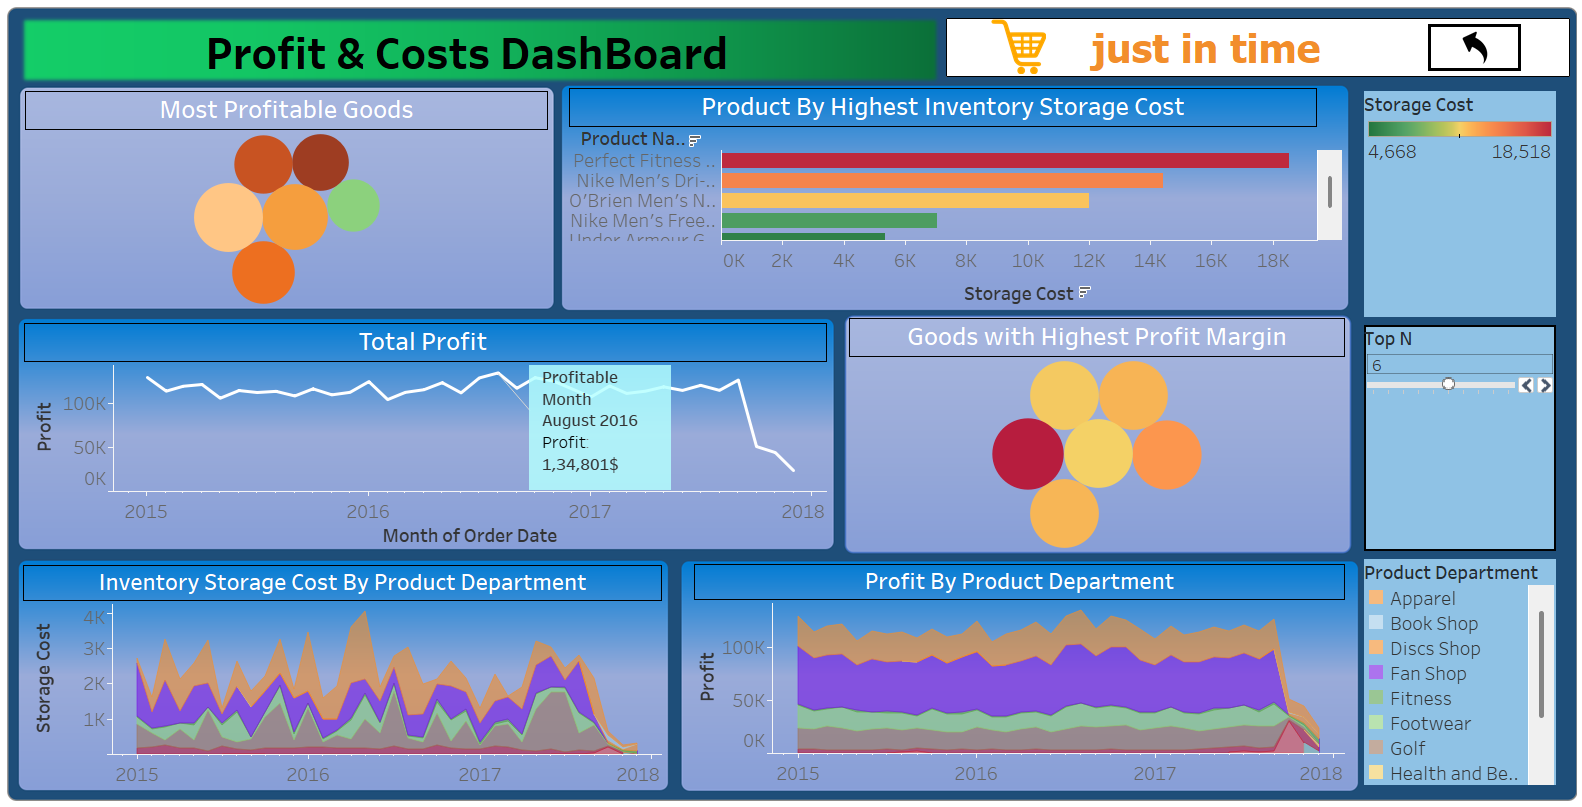

The page's visual inventory and layout, read from the dashboard file:
{"tool":"tableau","page":{"name":"Profit & Costs DashBoard 1","canvas":[1601,818],"ordinal":3},"visuals":[{"type":"image","param":"Image/Picture8.png","box":[8,8,1585,802]},{"type":"text","box":[954,23,624,59]},{"type":"image","param":"Image/shopping-cart-xxl.png","box":[964,24,125,55]},{"type":"text","box":[84,29,782,54]},{"type":"dashboard-object","box":[1436,29,93,47]},{"type":"legend","title":"Profit By Product Department","param":"[federated.19ygq9l0xg1jf01fjcc2w0el0qod].[none:Product Department:nk]","box":[1368,92,200,318]},{"type":"worksheet","title":"Product By Highest Inventory Storage Cost","mark":"Automatic","rows":["Product Name"],"cols":["Calculation_721279635830018048"],"box":[577,93,773,217]},{"type":"worksheet","title":"Most Profitable Goods","mark":"Circle","box":[33,96,523,213]},{"type":"worksheet","title":"Goods with Highest Profit Margin","mark":"Circle","box":[857,323,496,230]},{"type":"worksheet","title":"Total Profit","mark":"Automatic","rows":["Profit "],"cols":["Calculation_1157143648585805825"],"box":[32,328,803,224]},{"type":"legend","title":"Product By Highest Inventory Storage Cost","param":"[federated.19ygq9l0xg1jf01fjcc2w0el0qod].[sum:Calculation_721279635830018048:qk]","box":[1368,410,200,181]},{"type":"worksheet","title":"Profit By Product Department","mark":"Area","rows":["Profit "],"cols":["Calculation_1157143648585805825"],"box":[702,569,651,221]},{"type":"worksheet","title":"Inventory Storage Cost By Product Department","mark":"Area","rows":["Calculation_721279635830018048"],"cols":["Calculation_1157143648585805825"],"box":[31,570,639,221]},{"type":"parameter","param":"[Parameters].[Parameter 1]","box":[1368,591,200,203]}]}

Visuals, with their boxes in screenshot pixels (x1, y1, x2, y2), scaled from the page's 1601x818 canvas onto the 1582x807 screenshot:
image: <region>8, 8, 1574, 799</region>
text: <region>943, 23, 1559, 81</region>
image: <region>953, 24, 1076, 78</region>
text: <region>83, 29, 856, 82</region>
dashboard-object: <region>1419, 29, 1511, 75</region>
"Profit By Product Department" legend: <region>1352, 91, 1549, 404</region>
"Product By Highest Inventory Storage Cost" worksheet: <region>570, 92, 1334, 306</region>
"Most Profitable Goods" worksheet (Circle marks): <region>33, 95, 549, 305</region>
"Goods with Highest Profit Margin" worksheet (Circle marks): <region>847, 319, 1337, 546</region>
"Total Profit" worksheet: <region>32, 324, 825, 545</region>
"Product By Highest Inventory Storage Cost" legend: <region>1352, 404, 1549, 583</region>
"Profit By Product Department" worksheet (Area marks): <region>694, 561, 1337, 779</region>
"Inventory Storage Cost By Product Department" worksheet (Area marks): <region>31, 562, 662, 780</region>
parameter: <region>1352, 583, 1549, 783</region>
